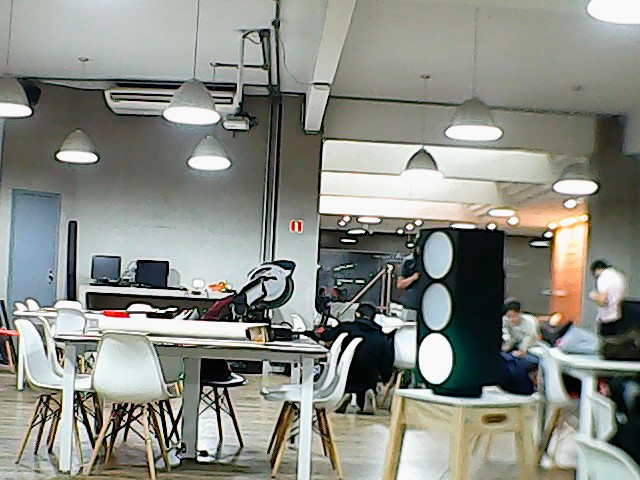verde: (403, 222, 505, 397)
